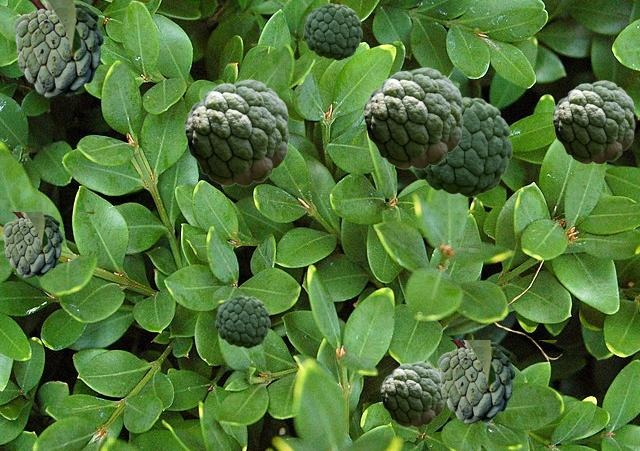atis: (13, 0, 150, 97), (184, 79, 288, 185), (363, 67, 462, 168), (412, 96, 511, 196), (437, 340, 555, 423), (552, 80, 634, 163), (2, 212, 94, 277), (380, 361, 444, 426), (303, 3, 361, 59), (215, 295, 269, 347)
